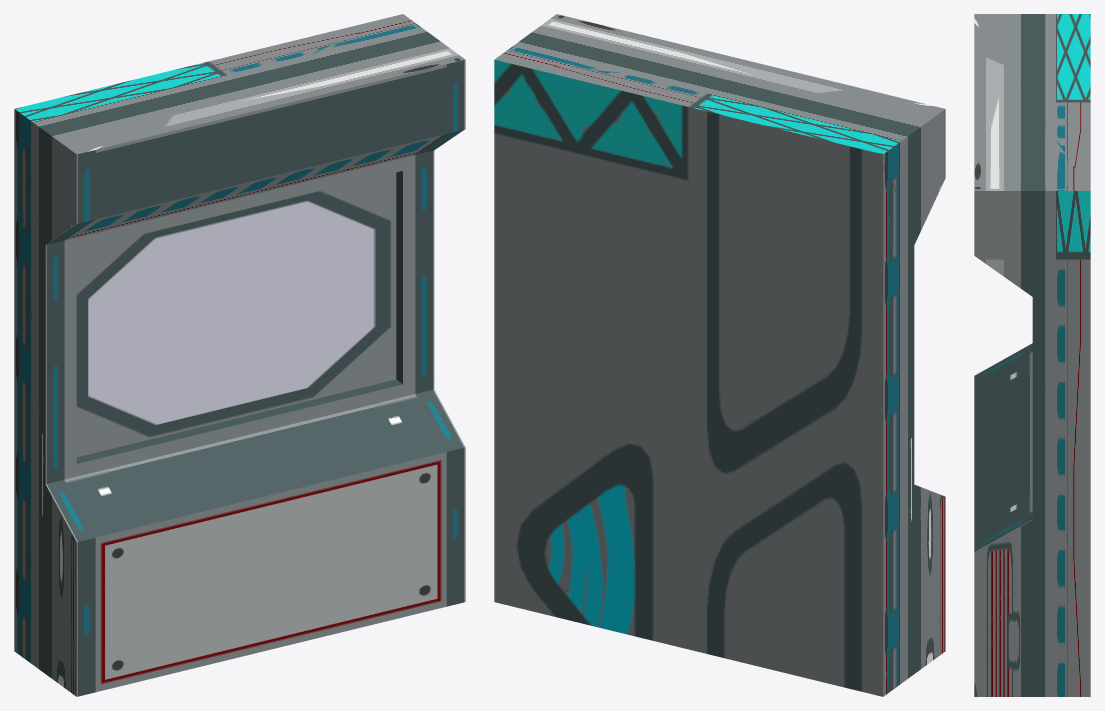
The model's file is P2_Simple4.fbx.
3 renders of one model, left to right at view 1: azimuth 30°, elevation 25°; view 2: azimuth 150°, elevation 25°; view 3: azimuth 270°, elevation 25°, orthographic. The views are drawn at different scales.
Parts seen in each view (by area): view 1: Cube.021; view 2: Cube.021; view 3: Cube.021.
Boxes of the visible parts, <box> form: Cube.021: <box>14,14,465,696</box>; Cube.021: <box>494,14,945,696</box>; Cube.021: <box>974,14,1090,696</box>.
Bounding box in the file's own units: 300 × 83.32 × 400.
